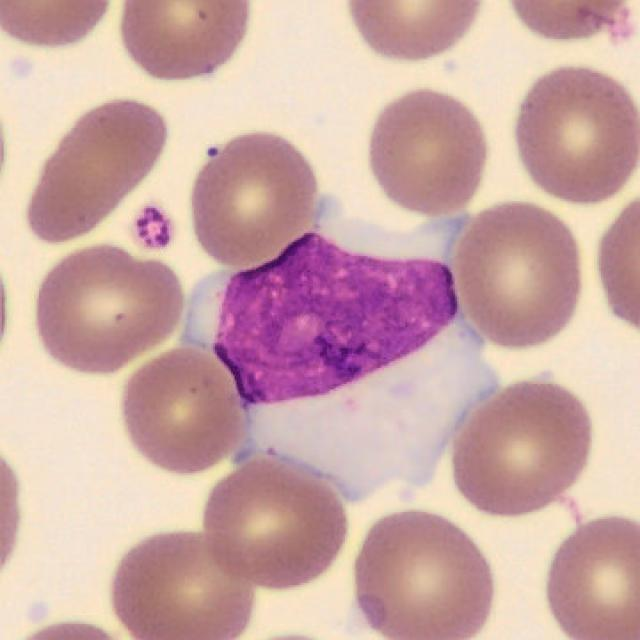Linfocito atipico: (181, 176, 514, 503)
